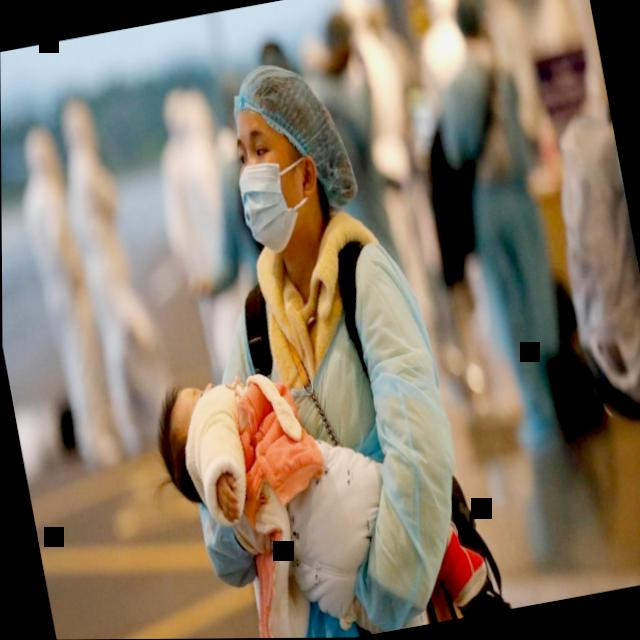Mask: (204, 37, 368, 274)
